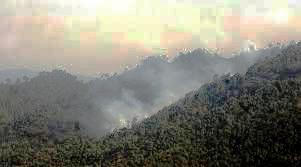smoke: (91, 38, 282, 138)
